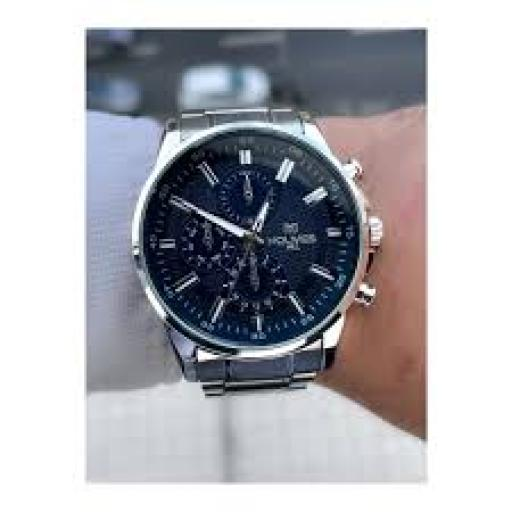KolSaati: (108, 64, 406, 406)
